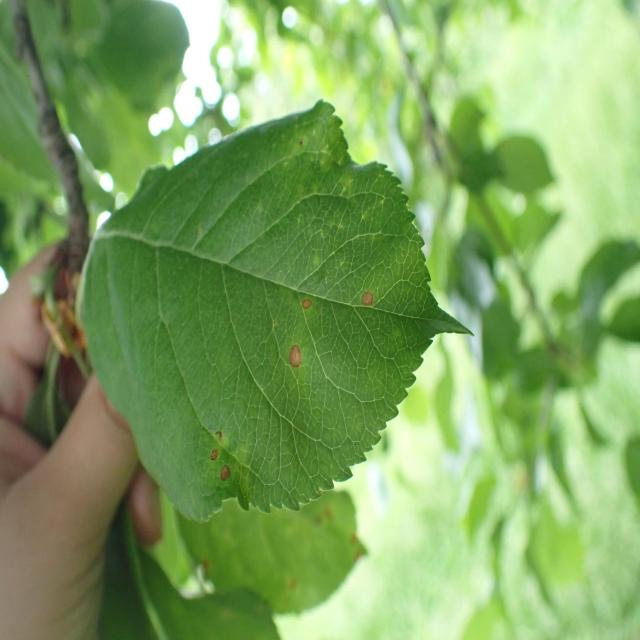Black Rot: (204, 418, 248, 501), (352, 282, 395, 324), (297, 288, 329, 327), (283, 324, 303, 384)
